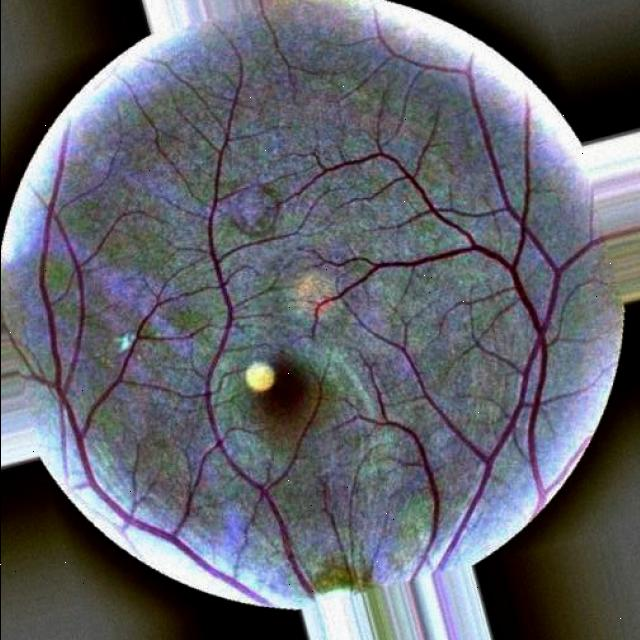Macula: (251, 360, 315, 424)
Nerves: (292, 95, 640, 552), (174, 149, 315, 598), (75, 296, 212, 569), (364, 386, 441, 563), (39, 229, 85, 420)
